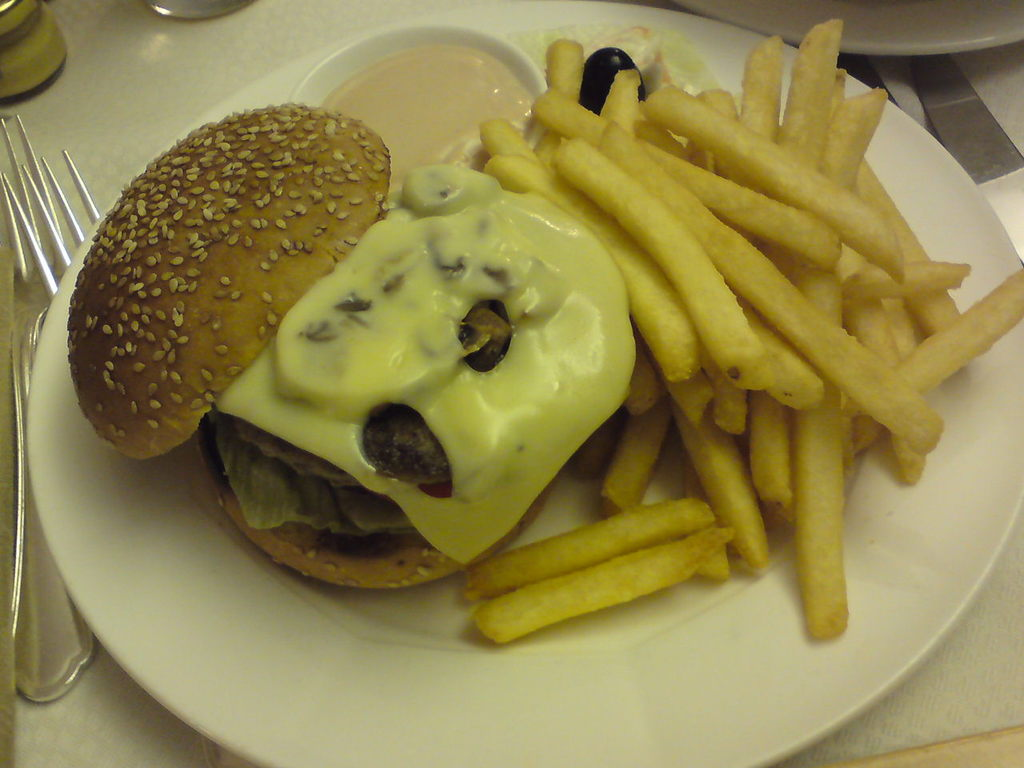French fries: (456, 12, 1023, 648)
